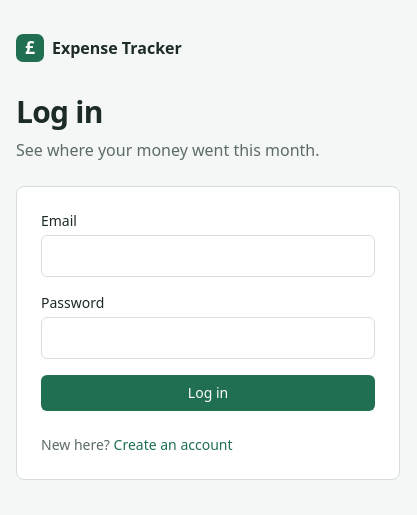
Test: LoginPage › shows the server's message when the details are wrong
The width and height of the screenshot is (417, 515).
In the field labelled "Email": (208, 256) [41,235,375,277], type "zain@example.com"
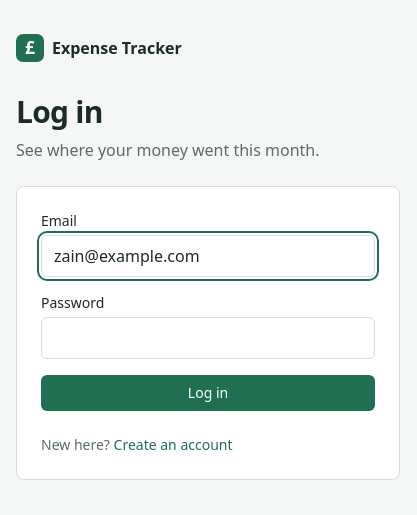
In the password field labelled "Password": (208, 338) [41,317,375,359], type "wrong-password"
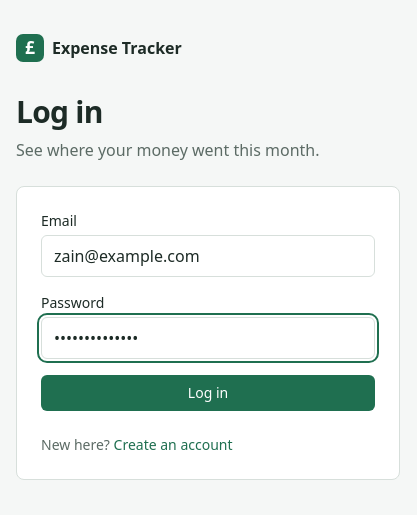
Click the button "Log in": (208, 393) [41,375,375,411]
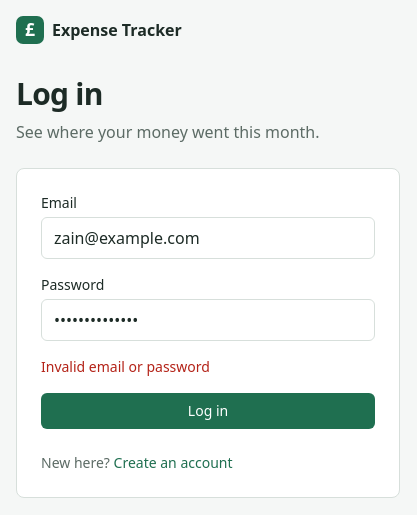
Now the message reads "Invalid email or password", box [41,357,210,376]
